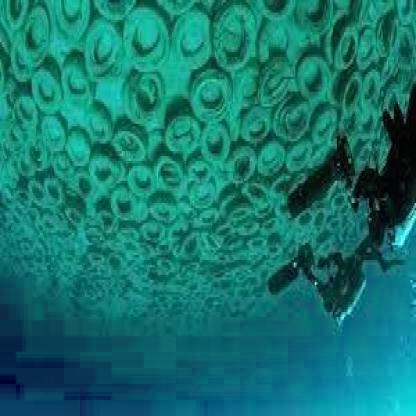tire: (1, 2, 265, 310), (264, 3, 410, 134)
